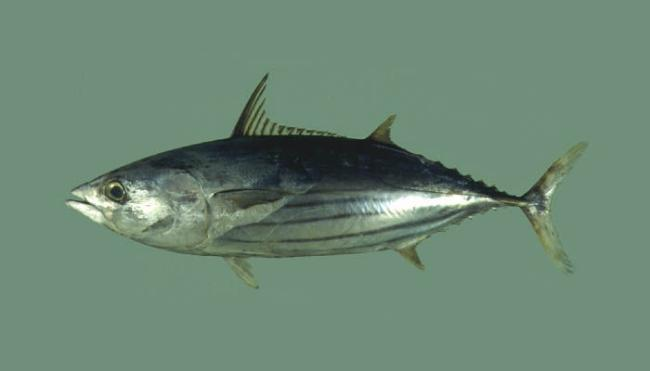fish: (65, 72, 589, 290)
